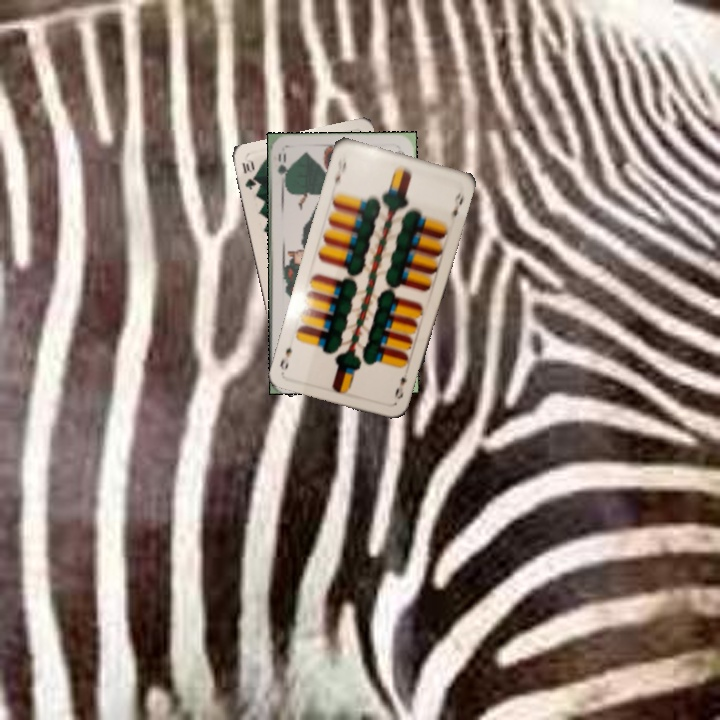E9: (328, 153, 349, 191), (390, 373, 409, 402)
G10: (238, 157, 259, 192)
GO: (274, 149, 291, 189)
